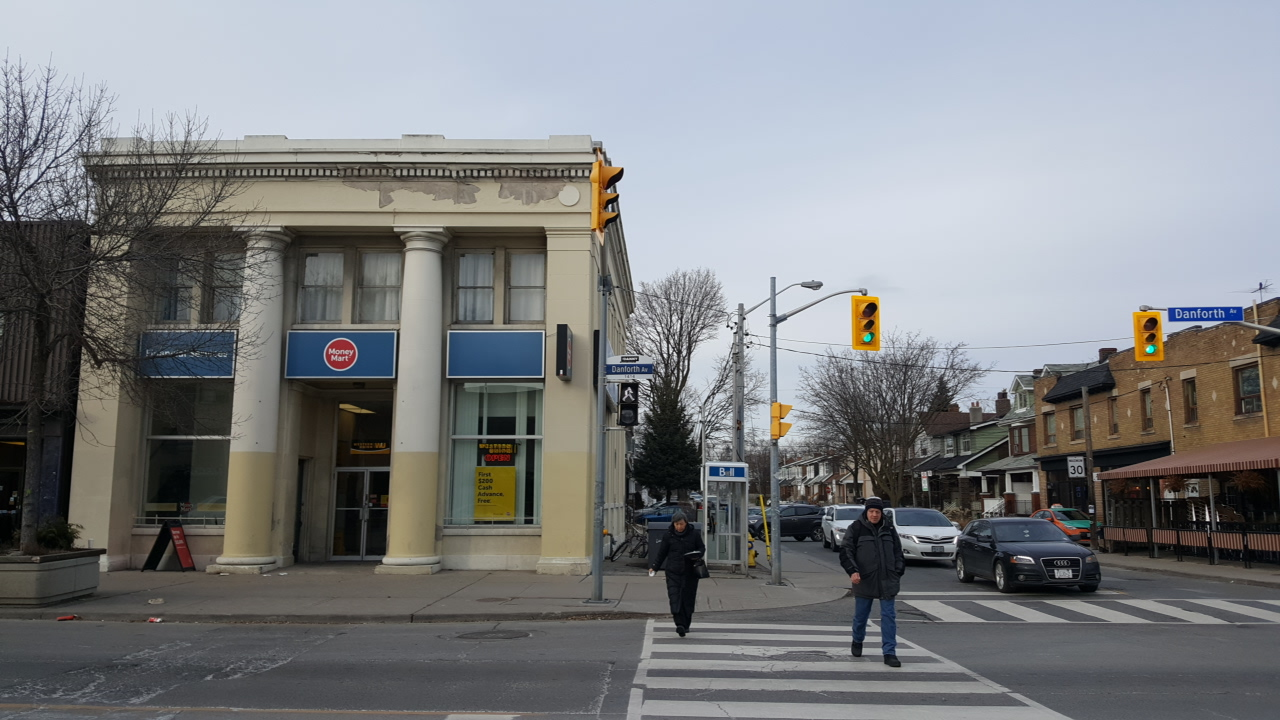light: (615, 377, 643, 432)
